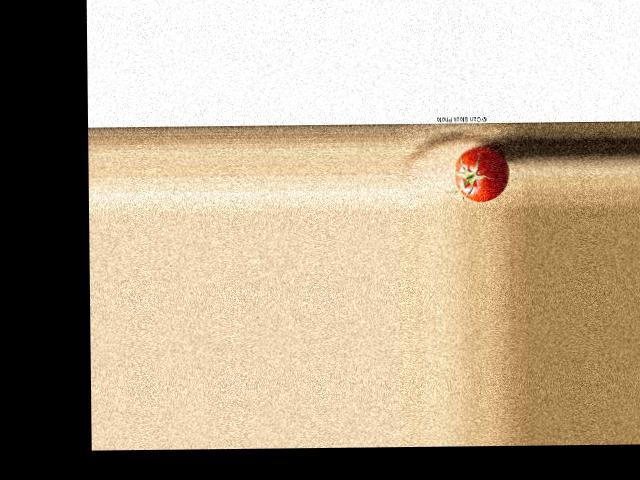tomato: (453, 147, 508, 200)
